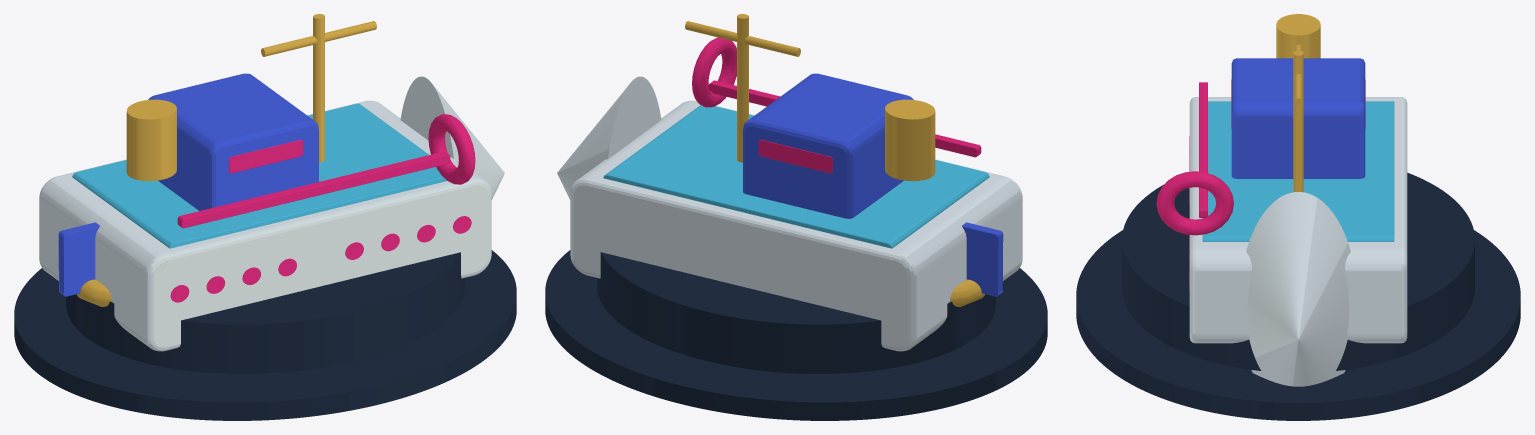
File: 1156_海底两万里_佛罗里达号.glb
3 renders of one model, left to right at view 1: azimuth 30°, elevation 25°; view 2: azimuth 150°, elevation 25°; view 3: azimuth 270°, elevation 25°, orthographic. The views are drawn at different scales.
Parts seen in each view (by area): view 1: card_1156; view 2: card_1156; view 3: card_1156.
Part boxes in pixels (x1,y1,x2,y2): card_1156: [14, 14, 516, 420]; card_1156: [545, 14, 1047, 420]; card_1156: [1076, 14, 1520, 420].
Size of the model in its own units: 1.54 by 1 by 1.3.
